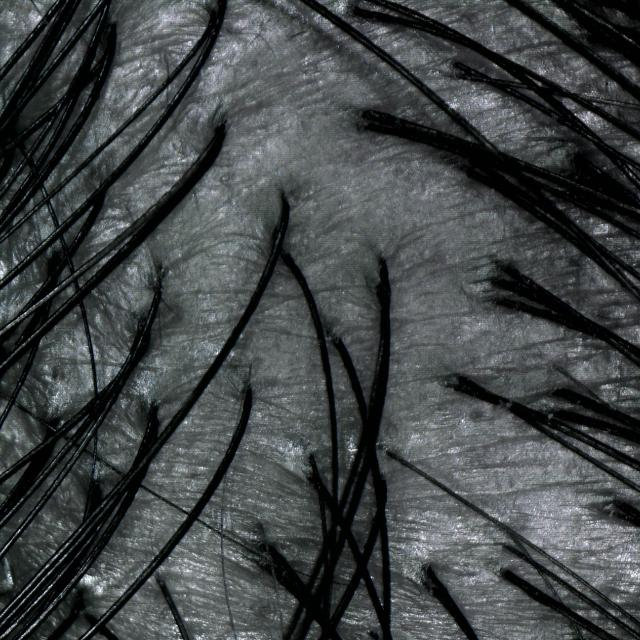roots: (149, 566, 172, 596), (101, 15, 124, 44), (142, 399, 164, 429), (43, 408, 65, 438), (204, 1, 226, 30), (238, 382, 260, 410), (85, 479, 107, 507), (301, 446, 322, 475), (447, 373, 468, 401), (45, 248, 66, 276), (247, 551, 266, 581), (207, 115, 228, 142), (348, 0, 369, 27), (498, 254, 518, 282), (456, 154, 476, 182), (212, 125, 233, 151), (253, 520, 270, 552), (378, 439, 398, 466), (91, 184, 111, 211), (494, 290, 513, 318), (551, 401, 572, 426), (452, 364, 472, 390), (358, 95, 377, 122), (363, 117, 382, 144), (551, 358, 571, 383), (148, 278, 167, 304), (488, 268, 507, 294), (266, 226, 286, 250), (78, 606, 98, 630), (275, 191, 294, 216), (608, 489, 627, 514), (498, 562, 516, 588), (555, 381, 574, 405), (448, 51, 466, 76), (604, 503, 624, 525), (376, 254, 394, 278), (499, 536, 518, 558), (454, 66, 473, 88), (330, 330, 347, 353), (134, 313, 151, 336), (416, 574, 435, 594), (421, 561, 438, 583), (504, 525, 520, 546)
